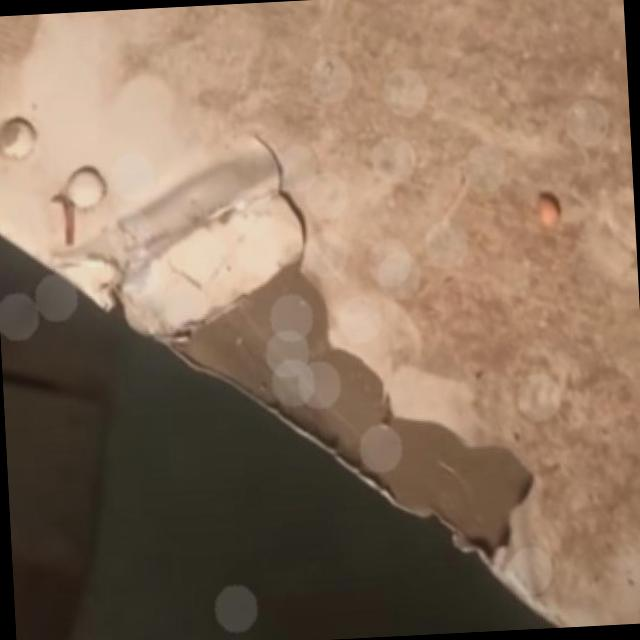crack: (260, 154, 326, 253)
